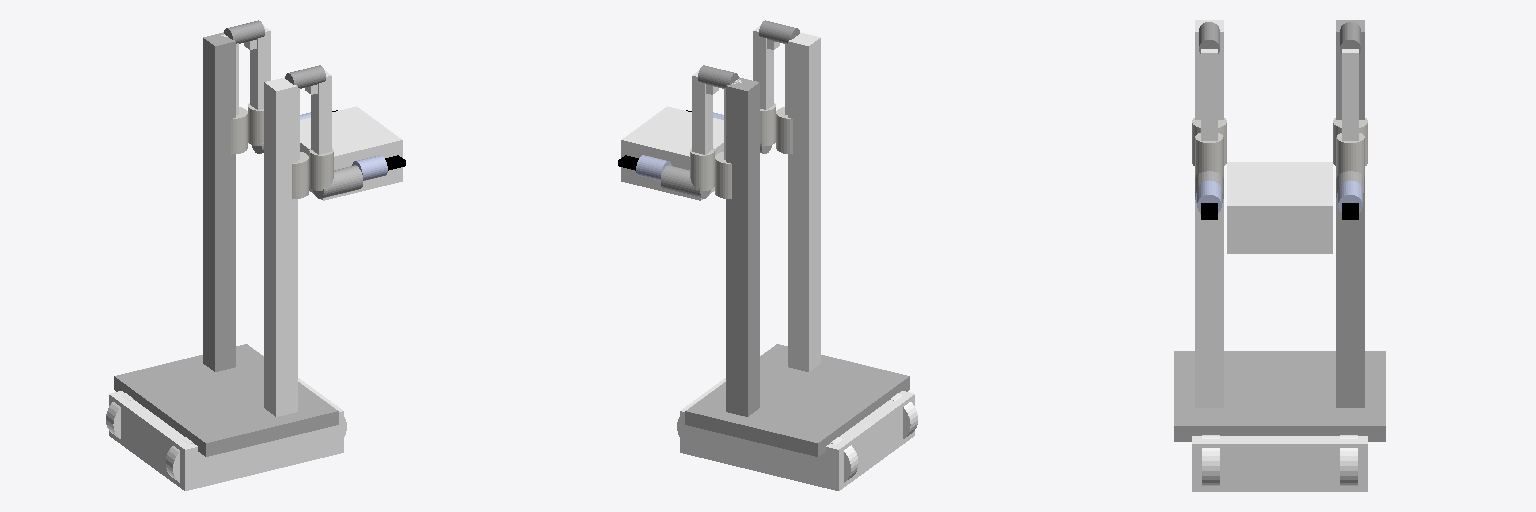
--- What the picture shows (computed from the rendered views, not written in the file) ---
The picture shows the robot from 3 angles, left to right: view 1: azimuth 30°, elevation 25°; view 2: azimuth 150°, elevation 25°; view 3: azimuth 270°, elevation 25°; orthographic projection.
Robot: r8_6 — 62 links, 61 joints (13 revolute, 8 continuous, 3 prismatic, 37 fixed); root link base_link; default pose: joints at zero except 3 at the middle of their limits (elv_zaxis_joint = 0.75, l_zaxis_joint = 0.79, r_zaxis_joint = 0.79).
Links seen in each view (by area): view 1: mover_top_link, r_arm_link, elv_link, wheel_base_link, elv_storage_link, r_elbow_p2_link, l_elbow_p2_link, r_elbow_tip_link, r_upper_arm_y_link, l_shoulder_y_link, r_shoulder_y_link, l_elbow_connector_link (+3 smaller); view 2: mover_top_link, elv_link, r_arm_link, wheel_base_link, elv_storage_link, l_elbow_p2_link, r_elbow_p2_link, l_elbow_tip_link, l_upper_arm_y_link, l_shoulder_y_link, r_shoulder_y_link, r_elbow_connector_link (+3 smaller); view 3: mover_top_link, elv_storage_link, wheel_base_link, elv_link, r_arm_link, l_elbow_p2_link, r_elbow_p2_link, l_elbow_tip_link, r_elbow_tip_link, r_wheel_f_link, l_wheel_f_link, l_wrist_link (+3 smaller).
Link boxes in pixels (x1,y1,x2,y2): mover_top_link: [114, 344, 338, 456]; r_arm_link: [264, 77, 297, 416]; elv_link: [203, 32, 235, 371]; wheel_base_link: [109, 378, 343, 490]; elv_storage_link: [300, 106, 402, 200]; r_elbow_p2_link: [311, 71, 331, 154]; l_elbow_p2_link: [250, 25, 270, 109]; r_elbow_tip_link: [309, 148, 333, 190]; r_upper_arm_y_link: [313, 165, 362, 198]; l_shoulder_y_link: [231, 107, 247, 154]; r_shoulder_y_link: [292, 152, 308, 198]; l_elbow_connector_link: [224, 20, 264, 43]; mover_top_link: [685, 344, 909, 456]; elv_link: [726, 77, 759, 416]; r_arm_link: [788, 32, 820, 371]; wheel_base_link: [680, 378, 914, 490]; elv_storage_link: [621, 106, 723, 200]; l_elbow_p2_link: [692, 71, 712, 154]; r_elbow_p2_link: [753, 25, 773, 109]; l_elbow_tip_link: [690, 148, 714, 190]; l_upper_arm_y_link: [661, 165, 710, 198]; l_shoulder_y_link: [715, 152, 731, 198]; r_shoulder_y_link: [776, 107, 792, 154]; r_elbow_connector_link: [759, 20, 799, 43]; mover_top_link: [1174, 351, 1385, 441]; elv_storage_link: [1227, 162, 1332, 253]; wheel_base_link: [1192, 436, 1367, 491]; elv_link: [1336, 20, 1364, 407]; r_arm_link: [1195, 20, 1223, 407]; l_elbow_p2_link: [1342, 49, 1358, 140]; r_elbow_p2_link: [1201, 49, 1217, 140]; l_elbow_tip_link: [1336, 133, 1364, 177]; r_elbow_tip_link: [1195, 133, 1223, 177]; r_wheel_f_link: [1202, 435, 1219, 485]; l_wheel_f_link: [1340, 435, 1357, 485]; l_wrist_link: [1338, 180, 1362, 213].
Size in the robot's own frame: 0.9065 by 0.6 by 1.39 metres.
Geometry: primitives only (box / cylinder / sphere), no mesh files.

URDF robot description (r8_6):
<?xml version="1.0" encoding="UTF-8"?>
<!-- ============================================================================================== -->
<!-- |    R8-6 is a dual-arm mobile platform robot from THK, created for object transportation.   | -->
<!-- ============================================================================================== -->
<robot name="r8_6">
  <joint name="wheel_elv_connector" type="fixed">
    <parent link="mover_top_link" />
    <child link="elv_link" />
    <origin xyz="0 0 0" rpy="0 0 0" />
  </joint>
  <joint name="wheel_larm_connector" type="fixed">
    <parent link="mover_top_link" />
    <child link="l_arm_link" />
    <origin xyz="0 0 0" rpy="0 0 0" />
  </joint>
  <joint name="wheel_rarm_connector" type="fixed">
    <parent link="mover_top_link" />
    <child link="r_arm_link" />
    <origin xyz="0 0 0" rpy="0 0 0" />
  </joint>
  <link name="base_link" />
  <link name="wheel_base_link">
    <visual>
      <origin xyz="0 0 0.075" rpy="0 0 0" />
      <geometry>
        <box size="0.6 0.5 0.15" />
      </geometry>
      <material name="material_0">
        <color rgba="0.996078 0.996078 1.000000 1.0" />
      </material>
    </visual>
    <collision>
      <origin xyz="0 0 0.075" rpy="0 0 0" />
      <geometry>
        <box size="0.6 0.5 0.15" />
      </geometry>
    </collision>
  </link>
  <joint name="wheel_base_link_connector" type="fixed">
    <axis xyz="0 0 0" />
    <parent link="base_link" />
    <child link="wheel_base_link" />
    <origin xyz="0 0 0" rpy="0 0 0" />
  </joint>
  <link name="mover_top_link">
    <visual>
      <origin xyz="0 0 0" rpy="0 0 0" />
      <geometry>
        <box size="0.5 0.6 0.05" />
      </geometry>
      <material name="material_1">
        <color rgba="0.749020 0.749020 0.749020 1.0" />
      </material>
    </visual>
    <collision>
      <origin xyz="0 0 0" rpy="0 0 0" />
      <geometry>
        <box size="0.5 0.6 0.05" />
      </geometry>
    </collision>
  </link>
  <joint name="wheel_body_to_base_spine" type="fixed">
    <axis xyz="0 0 0" />
    <parent link="wheel_base_link" />
    <child link="mover_top_link" />
    <origin xyz="0 0 0.157" rpy="0 0 0" />
  </joint>
  <link name="r_wheel_f_link">
    <visual>
      <origin xyz="0 0 0" rpy="1.5708 0 0" />
      <geometry>
        <cylinder radius="0.076" length="0.05" />
      </geometry>
      <material name="material_0">
        <color rgba="0.996078 0.996078 1.000000 1.0" />
      </material>
    </visual>
    <collision>
      <origin xyz="0 0 0" rpy="1.5708 0 0" />
      <geometry>
        <cylinder radius="0.076" length="0.05" />
      </geometry>
    </collision>
  </link>
  <joint name="wheel_body_to_r_wheel_f" type="fixed">
    <axis xyz="0 0 0" />
    <parent link="wheel_base_link" />
    <child link="r_wheel_f_link" />
    <origin xyz="0.252 -0.194759 0.0763" rpy="0 0 0" />
  </joint>
  <link name="l_wheel_f_link">
    <visual>
      <origin xyz="0 0 0" rpy="1.5708 0 0" />
      <geometry>
        <cylinder radius="0.076" length="0.05" />
      </geometry>
      <material name="material_0">
        <color rgba="0.996078 0.996078 1.000000 1.0" />
      </material>
    </visual>
    <collision>
      <origin xyz="0 0 0" rpy="1.5708 0 0" />
      <geometry>
        <cylinder radius="0.076" length="0.05" />
      </geometry>
    </collision>
  </link>
  <joint name="wheel_body_to_l_wheel_f" type="fixed">
    <axis xyz="0 0 0" />
    <parent link="wheel_base_link" />
    <child link="l_wheel_f_link" />
    <origin xyz="0.252 0.194759 0.0763" rpy="0 0 0" />
  </joint>
  <link name="r_wheel_r_link">
    <visual>
      <origin xyz="0 0 0" rpy="1.5708 0 0" />
      <geometry>
        <cylinder radius="0.076" length="0.05" />
      </geometry>
      <material name="material_0">
        <color rgba="0.996078 0.996078 1.000000 1.0" />
      </material>
    </visual>
    <collision>
      <origin xyz="0 0 0" rpy="1.5708 0 0" />
      <geometry>
        <cylinder radius="0.076" length="0.05" />
      </geometry>
    </collision>
  </link>
  <joint name="wheel_body_to_r_wheel_r" type="fixed">
    <axis xyz="0 0 0" />
    <parent link="wheel_base_link" />
    <child link="r_wheel_r_link" />
    <origin xyz="-0.252 -0.194759 0.0763" rpy="0 0 0" />
  </joint>
  <link name="l_wheel_r_link">
    <visual>
      <origin xyz="0 0 0" rpy="1.5708 0 0" />
      <geometry>
        <cylinder radius="0.076" length="0.05" />
      </geometry>
      <material name="material_0">
        <color rgba="0.996078 0.996078 1.000000 1.0" />
      </material>
    </visual>
    <collision>
      <origin xyz="0 0 0" rpy="1.5708 0 0" />
      <geometry>
        <cylinder radius="0.076" length="0.05" />
      </geometry>
    </collision>
  </link>
  <joint name="wheel_body_to_l_wheel_r" type="fixed">
    <axis xyz="0 0 0" />
    <parent link="wheel_base_link" />
    <child link="l_wheel_r_link" />
    <origin xyz="-0.252 0.194759 0.0763" rpy="0 0 0" />
  </joint>
  <link name="front_base_laser_link" />
  <joint name="wheel_body_to_front_laser_connector" type="fixed">
    <axis xyz="0 0 0" />
    <parent link="wheel_base_link" />
    <child link="front_base_laser_link" />
    <origin xyz="0.308 0 0.1014" rpy="0 0 0" />
  </joint>
  <link name="rear_base_laser_link" />
  <joint name="wheel_body_to_rear_laser_connector" type="fixed">
    <axis xyz="0 0 0" />
    <parent link="wheel_base_link" />
    <child link="rear_base_laser_link" />
    <origin xyz="-0.308 0 0.1014" rpy="0 0 3.14" />
  </joint>
  <link name="top_camera_link" />
  <joint name="top_camera_joint" type="fixed">
    <axis xyz="0 0 0" />
    <parent link="mover_top_link" />
    <child link="top_camera_link" />
    <origin xyz="0.04 0 1.59" rpy="0 1.2 0" />
  </joint>
  <link name="elv_link">
    <visual>
      <origin xyz="0.0905 0.200 0.6" rpy="0 0 0" />
      <geometry>
        <box size="0.08 0.08 1.2" />
      </geometry>
      <material name="material_1">
        <color rgba="0.749020 0.749020 0.749020 1.0" />
      </material>
    </visual>
    <collision>
      <origin xyz="0.0905 0.200 0.6" rpy="0 0 0" />
      <geometry>
        <box size="0.08 0.08 1.2" />
      </geometry>
    </collision>
  </link>
  <link name="elv_zaxis_link" />
  <joint name="elv_zaxis_joint" type="prismatic">
    <axis xyz="0 0 1" />
    <parent link="elv_link" />
    <child link="elv_zaxis_link" />
    <origin xyz="0.0905 0.200 0.0" rpy="0 0 0" />
    <limit effort="0" lower="0.1" upper="1.4" velocity="0.28" />
  </joint>
  <link name="elv_storage_link">
    <visual>
      <origin xyz="0.1 0 0" rpy="0 0 0" />
      <geometry>
        <box size="0.3 0.3 0.15" />
      </geometry>
      <material name="material_0">
        <color rgba="0.996078 0.996078 1.000000 1.0" />
      </material>
    </visual>
    <collision>
      <origin xyz="0.1 0 0" rpy="0 0 0" />
      <geometry>
        <box size="0.3 0.3 0.15" />
      </geometry>
    </collision>
  </link>
  <joint name="elv_storage_y_joint" type="revolute">
    <axis xyz="0 0 -1" />
    <parent link="elv_zaxis_link" />
    <child link="elv_storage_link" />
    <origin xyz="0.238 -0.2 0.04" rpy="0 0 0" />
    <limit effort="0" lower="-1.57" upper="1.57" velocity="1.0" />
  </joint>
  <link name="elv_camera_link" />
  <joint name="elv_camera_joint" type="fixed">
    <axis xyz="0 0 0" />
    <parent link="elv_storage_link" />
    <child link="elv_camera_link" />
    <origin xyz="0.23463 0.009 0.02" rpy="0 0 0" />
  </joint>
  <link name="elv_camera2_link" />
  <joint name="elv_camera2_joint" type="fixed">
    <axis xyz="0 0 0" />
    <parent link="elv_storage_link" />
    <child link="elv_camera2_link" />
    <origin xyz="0.22 -0.025 0.04" rpy="0 0 3.14" />
  </joint>
  <link name="elv_camera_r_link" />
  <joint name="elv_camera_r_joint" type="fixed">
    <axis xyz="0 0 0" />
    <parent link="elv_storage_link" />
    <child link="elv_camera_r_link" />
    <origin xyz="0.0 -0.13693 -0.02973" rpy="0 0 -1.57" />
  </joint>
  <link name="elv_camera_l_link" />
  <joint name="elv_camera_l_joint" type="fixed">
    <axis xyz="0 0 0" />
    <parent link="elv_storage_link" />
    <child link="elv_camera_l_link" />
    <origin xyz="0.0 0.13693 -0.02973" rpy="0 0 1.57" />
  </joint>
  <link name="elv_attach_obj_link" />
  <joint name="elv_attach_obj_joint" type="fixed">
    <axis xyz="0 0 0" />
    <parent link="elv_storage_link" />
    <child link="elv_attach_obj_link" />
    <origin xyz="0.0 0.0 0.0725" rpy="0 0 0" />
  </joint>
  <link name="shelf1_attach_obj_link" />
  <joint name="shelf1_attach_obj_jint" type="fixed">
    <axis xyz="0 0 0" />
    <parent link="elv_link" />
    <child link="shelf1_attach_obj_link" />
    <origin xyz="-0.15 0.0 0.3485" rpy="0 0 0" />
  </joint>
  <link name="shelf2_attach_obj_link" />
  <joint name="shelf2_attach_obj_jint" type="fixed">
    <axis xyz="0 0 0" />
    <parent link="shelf1_attach_obj_link" />
    <child link="shelf2_attach_obj_link" />
    <origin xyz="0.0 0.0 0.15" rpy="0 0 0" />
  </joint>
  <link name="shelf3_attach_obj_link" />
  <joint name="shelf3_attach_obj_jint" type="fixed">
    <axis xyz="0 0 0" />
    <parent link="shelf2_attach_obj_link" />
    <child link="shelf3_attach_obj_link" />
    <origin xyz="0.0 0.0 0.15" rpy="0 0 0" />
  </joint>
  <link name="shelf4_attach_obj_link" />
  <joint name="shelf4_attach_obj_jint" type="fixed">
    <axis xyz="0 0 0" />
    <parent link="shelf3_attach_obj_link" />
    <child link="shelf4_attach_obj_link" />
    <origin xyz="0.0 0.0 0.15" rpy="0 0 0" />
  </joint>
  <link name="shelf5_attach_obj_link" />
  <joint name="shelf5_attach_obj_jint" type="fixed">
    <axis xyz="0 0 0" />
    <parent link="shelf4_attach_obj_link" />
    <child link="shelf5_attach_obj_link" />
    <origin xyz="0.0 0.0 0.15" rpy="0 0 0" />
  </joint>
  <link name="shelf6_attach_obj_link" />
  <joint name="shelf6_attach_obj_jint" type="fixed">
    <axis xyz="0 0 0" />
    <parent link="shelf5_attach_obj_link" />
    <child link="shelf6_attach_obj_link" />
    <origin xyz="0.0 0.0 0.15" rpy="0 0 0" />
  </joint>
  <link name="shelf7_attach_obj_link" />
  <joint name="shelf7_attach_obj_jint" type="fixed">
    <axis xyz="0 0 0" />
    <parent link="shelf6_attach_obj_link" />
    <child link="shelf7_attach_obj_link" />
    <origin xyz="0.0 0.0 0.15" rpy="0 0 0" />
  </joint>
  <link name="shelf8_attach_obj_link" />
  <joint name="shelf8_attach_obj_jint" type="fixed">
    <axis xyz="0 0 0" />
    <parent link="shelf7_attach_obj_link" />
    <child link="shelf8_attach_obj_link" />
    <origin xyz="0.0 0.0 0.15" rpy="0 0 0" />
  </joint>
  <link name="l_arm_link">
    <visual>
      <origin xyz="0.0905 0.200 0.6" rpy="0 0 0" />
      <geometry>
        <box size="0.08 0.08 1.2" />
      </geometry>
      <material name="material_0">
        <color rgba="0.996078 0.996078 1.000000 1.0" />
      </material>
    </visual>
    <collision>
      <origin xyz="0.0905 0.200 0.6" rpy="0 0 0" />
      <geometry>
        <box size="0.08 0.08 1.2" />
      </geometry>
    </collision>
  </link>
  <link name="l_zaxis_link" />
  <joint name="l_zaxis_joint" type="prismatic">
    <axis xyz="0 0 1" />
    <parent link="l_arm_link" />
    <child link="l_zaxis_link" />
    <origin xyz="0.0905 0.200 0" rpy="0 0 0" />
    <limit effort="0" lower="0.18" upper="1.4" velocity="0.28" />
  </joint>
  <link name="l_shoulder_y_link">
    <visual>
      <origin xyz="0 0 0.064" rpy="0 0 0" />
      <geometry>
        <cylinder radius="0.05" length="0.128" />
      </geometry>
      <material name="material_2">
        <color rgba="0.878431 0.874510 0.858824 1.0" />
      </material>
    </visual>
    <collision>
      <origin xyz="0 0 0.064" rpy="0 0 0" />
      <geometry>
        <cylinder radius="0.05" length="0.128" />
      </geometry>
    </collision>
  </link>
  <joint name="l_shoulder_y_joint" type="revolute">
    <axis xyz="0 0 1" />
    <parent link="l_zaxis_link" />
    <child link="l_shoulder_y_link" />
    <origin xyz="0.048 0 0.007" rpy="0 0 0" />
    <limit effort="0" lower="-1.67" upper="1.67" velocity="2.0" />
  </joint>
  <link name="l_elbow_p1_link">
    <visual>
      <origin xyz="0 0 0.1375" rpy="0 0 0" />
      <geometry>
        <box size="0.05 0.05 0.275" />
      </geometry>
      <material name="material_0">
        <color rgba="0.996078 0.996078 1.000000 1.0" />
      </material>
    </visual>
    <collision>
      <origin xyz="0 0 0.1375" rpy="0 0 0" />
      <geometry>
        <box size="0.05 0.05 0.275" />
      </geometry>
    </collision>
  </link>
  <joint name="l_elbow_p1_joint" type="revolute">
    <axis xyz="0 1 0" />
    <parent link="l_shoulder_y_link" />
    <child link="l_elbow_p1_link" />
    <origin xyz="-0.015 0 0.128" rpy="0 0 0" />
    <limit effort="0" lower="0" upper="1.57" velocity="2.0" />
  </joint>
  <link name="l_elbow_p1_link_dummy">
    <visual>
      <origin xyz="0 0 0" rpy="0 0 0" />
      <geometry>
        <box size="0.04 0.04 0.05" />
      </geometry>
      <material name="material_0">
        <color rgba="0.996078 0.996078 1.000000 1.0" />
      </material>
    </visual>
    <collision>
      <origin xyz="0 0 0" rpy="0 0 0" />
      <geometry>
        <box size="0.04 0.04 0.05" />
      </geometry>
    </collision>
  </link>
  <joint name="l_elbow_p1_joint_dummy" type="continuous">
    <axis xyz="0 1 0" />
    <parent link="l_shoulder_y_link" />
    <child link="l_elbow_p1_link_dummy" />
    <origin xyz="0.015 0 0.098" rpy="0 0 0" />
    <mimic joint="l_elbow_p1_joint" multiplier="1" offset="0" />
  </joint>
  <link name="l_elbow_connector_link">
    <visual>
      <origin xyz="0.06 0 0" rpy="0 1.5708 0" />
      <geometry>
        <cylinder radius="0.03" length="0.12" />
      </geometry>
      <material name="material_3">
        <color rgba="0.686275 0.686275 0.686275 1.0" />
      </material>
    </visual>
    <collision>
      <origin xyz="0.06 0 0" rpy="0 1.5708 0" />
      <geometry>
        <cylinder radius="0.03" length="0.12" />
      </geometry>
    </collision>
  </link>
  <joint name="l_elbow_p1_joint_mimic" type="continuous">
    <axis xyz="0 1 0" />
    <parent link="l_elbow_p1_link" />
    <child link="l_elbow_connector_link" />
    <origin xyz="0 0 0.275" rpy="0 0 0" />
    <mimic joint="l_elbow_p1_joint" multiplier="-1" offset="0" />
  </joint>
  <link name="l_elbow_p2_link">
    <visual>
      <origin xyz="0 0 -0.1375" rpy="0 0 0" />
      <geometry>
        <box size="0.05 0.05 0.275" />
      </geometry>
      <material name="material_0">
        <color rgba="0.996078 0.996078 1.000000 1.0" />
      </material>
    </visual>
    <collision>
      <origin xyz="0 0 -0.1375" rpy="0 0 0" />
      <geometry>
        <box size="0.05 0.05 0.275" />
      </geometry>
    </collision>
  </link>
  <joint name="l_elbow_p2_joint" type="revolute">
    <axis xyz="0 -1 0" />
    <parent link="l_elbow_connector_link" />
    <child link="l_elbow_p2_link" />
    <origin xyz="0.12 0 0" rpy="0 0 0" />
    <limit effort="0" lower="0" upper="1.57" velocity="2.0" />
  </joint>
  <link name="l_elbow_p2_link_dummy">
    <visual>
      <origin xyz="0 0 0" rpy="0 0 0" />
      <geometry>
        <box size="0.04 0.04 0.05" />
      </geometry>
      <material name="material_0">
        <color rgba="0.996078 0.996078 1.000000 1.0" />
      </material>
    </visual>
    <collision>
      <origin xyz="0 0 0" rpy="0 0 0" />
      <geometry>
        <box size="0.04 0.04 0.05" />
      </geometry>
    </collision>
  </link>
  <joint name="l_elbow_p2_joint_dummy" type="continuous">
    <axis xyz="0 1 0" />
    <parent link="l_elbow_connector_link" />
    <child link="l_elbow_p2_link_dummy" />
    <origin xyz="0.09 0 -0.03" rpy="0 0 0" />
    <mimic joint="l_elbow_p2_joint" multiplier="-1" offset="0" />
  </joint>
  <link name="l_elbow_tip_link">
    <visual>
      <origin xyz="0 0 -0.064" rpy="0 0 0" />
      <geometry>
        <cylinder radius="0.04" length="0.128" />
      </geometry>
      <material name="material_2">
        <color rgba="0.878431 0.874510 0.858824 1.0" />
      </material>
    </visual>
    <collision>
      <origin xyz="0 0 -0.064" rpy="0 0 0" />
      <geometry>
        <cylinder radius="0.04" length="0.128" />
      </geometry>
    </collision>
  </link>
  <joint name="l_elbow_p2_joint_mimic" type="continuous">
    <axis xyz="0 -1 0" />
    <parent link="l_elbow_p2_link" />
    <child link="l_elbow_tip_link" />
    <origin xyz="0 0 -0.275" rpy="0 0 0" />
    <mimic joint="l_elbow_p2_joint" multiplier="-1" offset="0" />
  </joint>
  <link name="l_upper_arm_y_link">
    <visual>
      <origin xyz="0.075 0 0" rpy="0 1.5708 0" />
      <geometry>
        <cylinder radius="0.04" length="0.15" />
      </geometry>
      <material name="material_1">
        <color rgba="0.749020 0.749020 0.749020 1.0" />
      </material>
    </visual>
    <collision>
      <origin xyz="0.075 0 0" rpy="0 1.5708 0" />
      <geometry>
        <cylinder radius="0.04" length="0.15" />
      </geometry>
    </collision>
  </link>
  <joint name="l_upper_arm_y_joint" type="revolute">
    <axis xyz="0 0 1" />
    <parent link="l_elbow_tip_link" />
    <child link="l_upper_arm_y_link" />
    <origin xyz="-0.015 0 -0.128" rpy="0 0 0" />
    <limit effort="30" lower="-2.65" upper="2.65" velocity="2.0" />
  </joint>
  <joint name="l_container_hook_joint" type="fixed">
    <axis xyz="0 0 0" />
    <parent link="l_upper_arm_y_link" />
    <child link="l_container_hook_link" />
    <origin xyz="-0.065 0 -0.025" rpy="0 0 0" />
  </joint>
  <link name="l_container_hook_link" />
  <joint name="l_container_hook2_joint" type="fixed">
    <axis xyz="0 0 0" />
    <parent link="l_upper_arm_y_link" />
    <child link="l_container_hook2_link" />
    <origin xyz="0 -0.065 -0.025" rpy="0 0 0" />
  </joint>
  <link name="l_container_hook2_link" />
  <link name="l_wrist_link">
    <visual>
      <origin xyz="0.0475 0 0" rpy="0 1.5708 0" />
      <geometry>
        <cylinder radius="0.035" length="0.095" />
      </geometry>
      <material name="material_4">
        <color rgba="0.792157 0.819608 0.933333 1.0" />
      </material>
    </visual>
    <collision>
      <origin xyz="0.0475 0 0" rpy="0 1.5708 0" />
      <geometry>
        <cylinder radius="0.035" length="0.095" />
      </geometry>
    </collision>
  </link>
  <joint name="l_wrist_p_joint" type="revolute">
    <axis xyz="0 1 0" />
    <parent link="l_upper_arm_y_link" />
    <child link="l_wrist_link" />
    <origin xyz="0.15 0 0.0205" rpy="0 0 0" />
    <limit effort="10" lower="-1.57" upper="1.57" velocity="2.0" />
  </joint>
  <joint name="l_wrist_dummy_joint" type="fixed">
    <axis xyz="0 0 0" />
    <parent link="l_upper_arm_y_link" />
    <child link="l_wrist_dummy_link" />
    <origin xyz="0.15 0 0.0205" rpy="0 0 0" />
  </joint>
  <link name="l_wrist_dummy_link" />
  <link name="l_hand_y_link" />
  <joint name="l_wrist_r_joint" type="revolute">
    <axis xyz="1 0 0" />
    <parent link="l_wrist_link" />
    <child link="l_hand_y_link" />
    <origin xyz="0.095 0 0" rpy="0 0 0" />
    <limit effort="10" lower="-2.09" upper="2.09" velocity="2.0" />
  </joint>
  <link name="l_wrist_camera_link" />
  <joint name="l_wrist_camera_joint" type="fixed">
    <axis xyz="0 0 0" />
    <parent link="l_wrist_link" />
    <child link="l_wrist_camera_link" />
    <origin xyz="0.06203 0.00775 0.0455" rpy="0 0 0" />
  </joint>
  <link name="r_arm_link">
    <visual>
      <origin xyz="0.0905 -0.200 0.6" rpy="0 0 0" />
      <geometry>
        <box size="0.08 0.08 1.2" />
      </geometry>
      <material name="material_0">
        <color rgba="0.996078 0.996078 1.000000 1.0" />
      </material>
    </visual>
    <collision>
      <origin xyz="0.0905 -0.200 0.6" rpy="0 0 0" />
      <geometry>
        <box size="0.08 0.08 1.2" />
      </geometry>
    </collision>
  </link>
  <link name="r_zaxis_link" />
  <joint name="r_zaxis_joint" type="prismatic">
    <axis xyz="0 0 1" />
    <parent link="r_arm_link" />
    <child link="r_zaxis_link" />
    <origin xyz="0.0905 -0.200 0" rpy="0 0 0" />
    <limit effort="0" lower="0.18" upper="1.4" velocity="0.28" />
  </joint>
  <link name="r_shoulder_y_link">
    <visual>
      <origin xyz="0 0 0.064" rpy="0 0 0" />
      <geometry>
        <cylinder radius="0.05" length="0.128" />
      </geometry>
      <material name="material_2">
        <color rgba="0.878431 0.874510 0.858824 1.0" />
      </material>
    </visual>
    <collision>
      <origin xyz="0 0 0.064" rpy="0 0 0" />
      <geometry>
        <cylinder radius="0.05" length="0.128" />
      </geometry>
    </collision>
  </link>
  <joint name="r_shoulder_y_joint" type="revolute">
    <axis xyz="0 0 1" />
    <parent link="r_zaxis_link" />
    <child link="r_shoulder_y_link" />
    <origin xyz="0.048 0 0.007" rpy="0 0 0" />
    <limit effort="0" lower="-1.67" upper="1.67" velocity="2.0" />
  </joint>
  <link name="r_elbow_p1_link">
    <visual>
      <origin xyz="0 0 0.1375" rpy="0 0 0" />
      <geometry>
        <box size="0.05 0.05 0.275" />
      </geometry>
      <material name="material_0">
        <color rgba="0.996078 0.996078 1.000000 1.0" />
      </material>
    </visual>
    <collision>
      <origin xyz="0 0 0.1375" rpy="0 0 0" />
      <geometry>
        <box size="0.05 0.05 0.275" />
      </geometry>
    </collision>
  </link>
  <joint name="r_elbow_p1_joint" type="revolute">
    <axis xyz="0 1 0" />
    <parent link="r_shoulder_y_link" />
    <child link="r_elbow_p1_link" />
    <origin xyz="-0.015 0 0.128" rpy="0 0 0" />
    <limit effort="0" lower="0" upper="1.57" velocity="2.0" />
  </joint>
  <link name="r_elbow_p1_link_dummy">
    <visual>
      <origin xyz="0 0 0" rpy="0 0 0" />
      <geometry>
        <box size="0.04 0.04 0.05" />
      </geometry>
      <material name="material_0">
        <color rgba="0.996078 0.996078 1.000000 1.0" />
      </material>
    </visual>
    <collision>
      <origin xyz="0 0 0" rpy="0 0 0" />
      <geometry>
        <box size="0.04 0.04 0.05" />
      </geometry>
    </collision>
  </link>
  <joint name="r_elbow_p1_joint_dummy" type="continuous">
    <axis xyz="0 1 0" />
    <parent link="r_shoulder_y_link" />
    <child link="r_elbow_p1_link_dummy" />
    <origin xyz="0.015 0 0.098" rpy="0 0 0" />
    <mimic joint="r_elbow_p1_joint" multiplier="1" offset="0" />
  </joint>
  <link name="r_elbow_connector_link">
    <visual>
      <origin xyz="0.06 0 0" rpy="0 1.5708 0" />
      <geometry>
        <cylinder radius="0.03" length="0.12" />
      </geometry>
      <material name="material_3">
        <color rgba="0.686275 0.686275 0.686275 1.0" />
      </material>
    </visual>
    <collision>
      <origin xyz="0.06 0 0" rpy="0 1.5708 0" />
      <geometry>
        <cylinder radius="0.03" length="0.12" />
      </geometry>
    </collision>
  </link>
  <joint name="r_elbow_p1_joint_mimic" type="continuous">
    <axis xyz="0 1 0" />
    <parent link="r_elbow_p1_link" />
    <child link="r_elbow_connector_link" />
    <origin xyz="0 0 0.275" rpy="0 0 0" />
    <mimic joint="r_elbow_p1_joint" multiplier="-1" offset="0" />
  </joint>
  <link name="r_elbow_p2_link">
    <visual>
      <origin xyz="0 0 -0.1375" rpy="0 0 0" />
      <geometry>
        <box size="0.05 0.05 0.275" />
      </geometry>
      <material name="material_0">
        <color rgba="0.996078 0.996078 1.000000 1.0" />
      </material>
    </visual>
    <collision>
      <origin xyz="0 0 -0.1375" rpy="0 0 0" />
      <geometry>
        <box size="0.05 0.05 0.275" />
      </geometry>
    </collision>
  </link>
  <joint name="r_elbow_p2_joint" type="revolute">
    <axis xyz="0 -1 0" />
    <parent link="r_elbow_connector_link" />
    <child link="r_elbow_p2_link" />
    <origin xyz="0.12 0 0" rpy="0 0 0" />
    <limit effort="0" lower="0" upper="1.57" velocity="2.0" />
  </joint>
  <link name="r_elbow_p2_link_dummy">
    <visual>
      <origin xyz="0 0 0" rpy="0 0 0" />
      <geometry>
        <box size="0.04 0.04 0.05" />
      </geometry>
      <material name="material_0">
        <color rgba="0.996078 0.996078 1.000000 1.0" />
      </material>
    </visual>
    <collision>
      <origin xyz="0 0 0" rpy="0 0 0" />
      <geometry>
        <box size="0.04 0.04 0.05" />
      </geometry>
    </collision>
  </link>
  <joint name="r_elbow_p2_joint_dummy" type="continuous">
    <axis xyz="0 1 0" />
    <parent link="r_elbow_connector_link" />
    <child link="r_elbow_p2_link_dummy" />
    <origin xyz="0.09 0 -0.03" rpy="0 0 0" />
    <mimic joint="r_elbow_p2_joint" multiplier="-1" offset="0" />
  </joint>
  <link name="r_elbow_tip_link">
    <visual>
      <origin xyz="0 0 -0.064" rpy="0 0 0" />
      <geometry>
        <cylinder radius="0.04" length="0.128" />
      </geometry>
      <material name="material_2">
        <color rgba="0.878431 0.874510 0.858824 1.0" />
      </material>
    </visual>
    <collision>
      <origin xyz="0 0 -0.064" rpy="0 0 0" />
      <geometry>
        <cylinder radius="0.04" length="0.128" />
      </geometry>
    </collision>
  </link>
  <joint name="r_elbow_p2_joint_mimic" type="continuous">
    <axis xyz="0 -1 0" />
    <parent link="r_elbow_p2_link" />
    <child link="r_elbow_tip_link" />
    <origin xyz="0 0 -0.275" rpy="0 0 0" />
    <mimic joint="r_elbow_p2_joint" multiplier="-1" offset="0" />
  </joint>
  <link name="r_upper_arm_y_link">
    <visual>
      <origin xyz="0.075 0 0" rpy="0 1.5708 0" />
      <geometry>
        <cylinder radius="0.04" length="0.15" />
      </geometry>
      <material name="material_1">
        <color rgba="0.749020 0.749020 0.749020 1.0" />
      </material>
    </visual>
    <collision>
      <origin xyz="0.075 0 0" rpy="0 1.5708 0" />
      <geometry>
        <cylinder radius="0.04" length="0.15" />
      </geometry>
    </collision>
  </link>
  <joint name="r_upper_arm_y_joint" type="revolute">
    <axis xyz="0 0 1" />
    <parent link="r_elbow_tip_link" />
    <child link="r_upper_arm_y_link" />
    <origin xyz="-0.015 0 -0.128" rpy="0 0 0" />
    <limit effort="30" lower="-2.65" upper="2.65" velocity="2.0" />
  </joint>
  <joint name="r_container_hook_joint" type="fixed">
    <axis xyz="0 0 0" />
    <parent link="r_upper_arm_y_link" />
    <child link="r_container_hook_link" />
    <origin xyz="-0.065 0 -0.025" rpy="0 0 0" />
  </joint>
  <link name="r_container_hook_link" />
  <joint name="r_container_hook2_joint" type="fixed">
    <axis xyz="0 0 0" />
    <parent link="r_upper_arm_y_link" />
    <child link="r_container_hook2_link" />
    <origin xyz="0 0.065 -0.025" rpy="0 0 0" />
  </joint>
  <link name="r_container_hook2_link" />
  <link name="r_wrist_link">
    <visual>
      <origin xyz="0.0475 0 0" rpy="0 1.5708 0" />
      <geometry>
        <cylinder radius="0.035" length="0.095" />
      </geometry>
      <material name="material_4">
        <color rgba="0.792157 0.819608 0.933333 1.0" />
      </material>
    </visual>
    <collision>
      <origin xyz="0.0475 0 0" rpy="0 1.5708 0" />
      <geometry>
        <cylinder radius="0.035" length="0.095" />
      </geometry>
    </collision>
  </link>
  <joint name="r_wrist_p_joint" type="revolute">
    <axis xyz="0 1 0" />
    <parent link="r_upper_arm_y_link" />
    <child link="r_wrist_link" />
    <origin xyz="0.15 0 0.0205" rpy="0 0 0" />
    <limit effort="10" lower="-1.57" upper="1.57" velocity="2.0" />
  </joint>
  <joint name="r_wrist_dummy_joint" type="fixed">
    <axis xyz="0 0 0" />
    <parent link="r_upper_arm_y_link" />
    <child link="r_wrist_dummy_link" />
    <origin xyz="0.15 0 0.0205" rpy="0 0 0" />
  </joint>
  <link name="r_wrist_dummy_link" />
  <link name="r_hand_y_link" />
  <joint name="r_wrist_r_joint" type="revolute">
    <axis xyz="1 0 0" />
    <parent link="r_wrist_link" />
    <child link="r_hand_y_link" />
    <origin xyz="0.095 0 0" rpy="0 0 0" />
    <limit effort="10" lower="-2.09" upper="2.09" velocity="2.0" />
  </joint>
  <link name="r_wrist_camera_link" />
  <joint name="r_wrist_camera_joint" type="fixed">
    <axis xyz="0 0 0" />
    <parent link="r_wrist_link" />
    <child link="r_wrist_camera_link" />
    <origin xyz="0.06203 0.00775 0.0455" rpy="0 0 0" />
  </joint>
  <joint name="l_hand_y_link_to_larm_base_link_joint" type="fixed">
    <parent link="l_hand_y_link" />
    <child link="larm_base_link" />
    <origin xyz="0 0 0" rpy="0 0 -1.57" />
  </joint>
  <link name="larm_base_link">
    <inertial>
      <origin xyz="-4.81324717209175e-05 0.0298890500915174 0.00575619132220093" rpy="0.0 -0.0 0.0" />
      <mass value="0.229312481437305" />
      <inertia ixx="9.14832904523456e-05" ixy="-1.35482929571061e-08" ixz="-4.79982654404299e-09" iyy="8.42321763492776e-05" iyz="4.63439400455701e-07" izz="4.03477350993515e-05" />
    </inertial>
    <visual>
      <geometry>
        <box size="0.05 0.15 0.02" />
      </geometry>
      <material name="material_5">
        <color rgba="0.000000 0.000000 0.000000 1.0" />
      </material>
      <origin xyz="0.0 0.0 0.0" rpy="0.0 -0.0 0.0" />
    </visual>
    <collision>
      <geometry>
        <box size="0.05 0.15 0.02" />
      </geometry>
      <origin xyz="0.0 0.0 0.0" rpy="0.0 -0.0 0.0" />
    </collision>
  </link>
  <link name="larm_dummy_link" />
  <joint name="larm_dummy_joint" type="fixed">
    <limit effort="0.0" velocity="0.0" />
    <parent link="larm_base_link" />
    <child link="larm_dummy_link" />
    <axis xyz="0. 0. 0." />
    <origin xyz="0.0 0.07685 0.0" rpy="0.0 -0.0 0.0" />
  </joint>
  <joint name="r_hand_y_link_to_rarm_base_link_joint" type="fixed">
    <parent link="r_hand_y_link" />
    <child link="rarm_base_link" />
    <origin xyz="0 0 0" rpy="0 0 -1.57" />
  </joint>
  <link name="rarm_base_link">
    <inertial>
      <origin xyz="-4.81324717209175e-05 0.0298890500915174 0.00575619132220093" rpy="0.0 -0.0 0.0" />
      <mass value="0.229312481437305" />
      <inertia ixx="9.14832904523456e-05" ixy="-1.35482929571061e-08" ixz="-4.79982654404299e-09" iyy="8.42321763492776e-05" iyz="4.63439400455701e-07" izz="4.03477350993515e-05" />
    </inertial>
    <visual>
      <geometry>
        <box size="0.05 0.15 0.02" />
      </geometry>
      <material name="material_5">
        <color rgba="0.000000 0.000000 0.000000 1.0" />
      </material>
      <origin xyz="0.0 0.0 0.0" rpy="0.0 -0.0 0.0" />
    </visual>
    <collision>
      <geometry>
        <box size="0.05 0.15 0.02" />
      </geometry>
      <origin xyz="0.0 0.0 0.0" rpy="0.0 -0.0 0.0" />
    </collision>
  </link>
  <link name="rarm_dummy_link" />
  <joint name="rarm_dummy_joint" type="fixed">
    <limit effort="0.0" velocity="0.0" />
    <parent link="rarm_base_link" />
    <child link="rarm_dummy_link" />
    <axis xyz="0. 0. 0." />
    <origin xyz="0.0 0.07685 0.0" rpy="0.0 -0.0 0.0" />
  </joint>
</robot>
